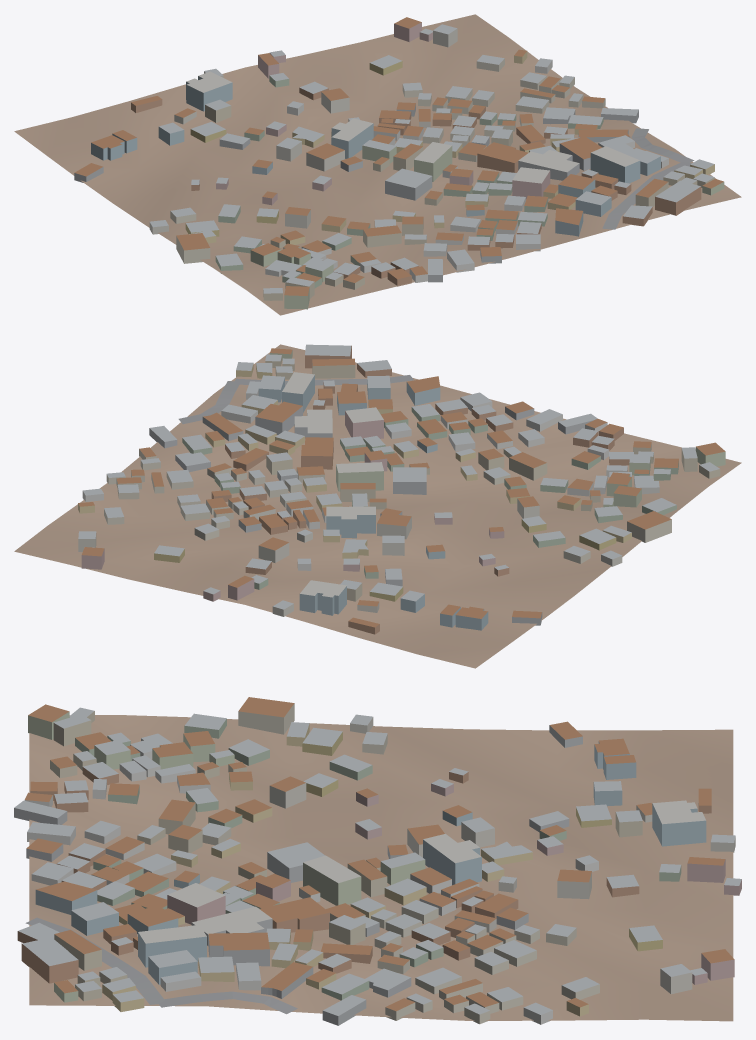
3 views of the same model, one above another, from view 1: azimuth 30°, elevation 25°; view 2: azimuth 150°, elevation 25°; view 3: azimuth 270°, elevation 25° (orthographic). The views are drawn at different scales.
Parts seen in each view (by area): view 1: Lo; view 2: Lo; view 3: Lo.
Boxes of the visible parts, <box> form: Lo: <box>14,14,741,315</box>; Lo: <box>14,344,741,668</box>; Lo: <box>14,697,741,1025</box>.
Size of the model in its own units: 271 by 20.15 by 265.
